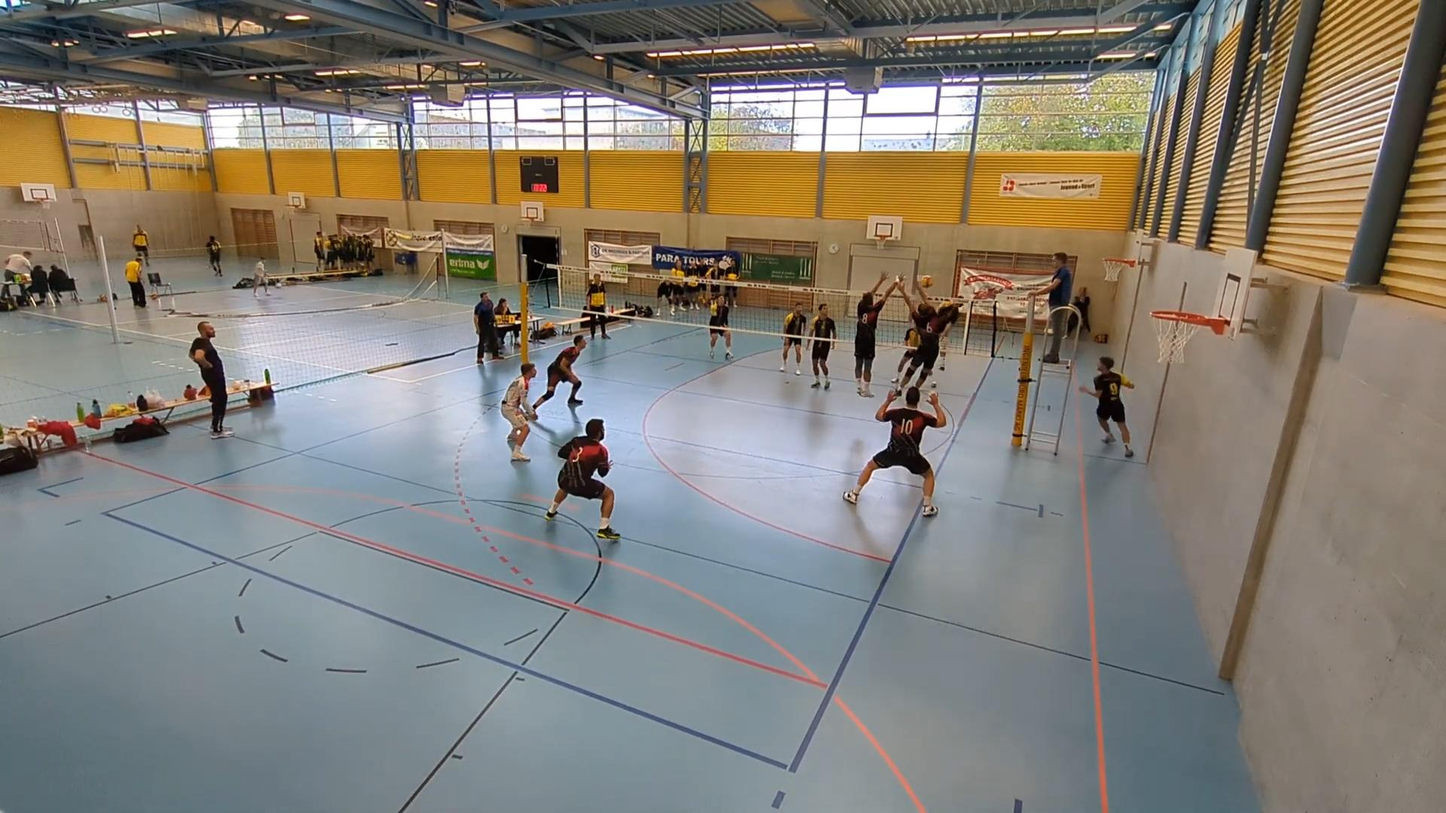attacco: (925, 287, 966, 380)
muro: (855, 273, 903, 409)
